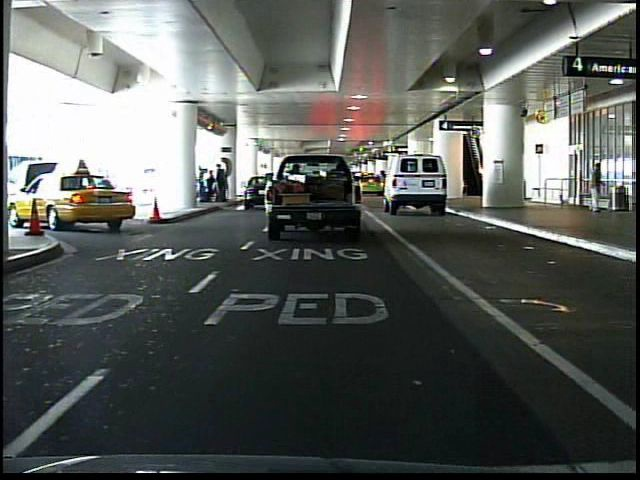person: (584, 160, 608, 216)
